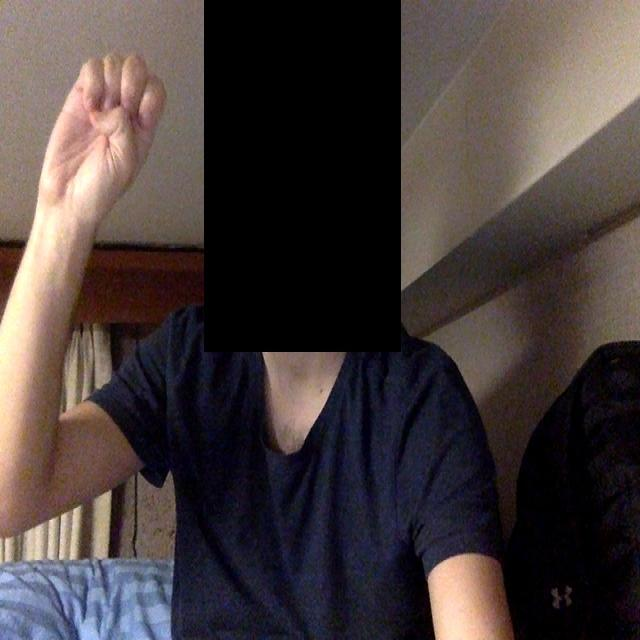E: (18, 27, 221, 290)
